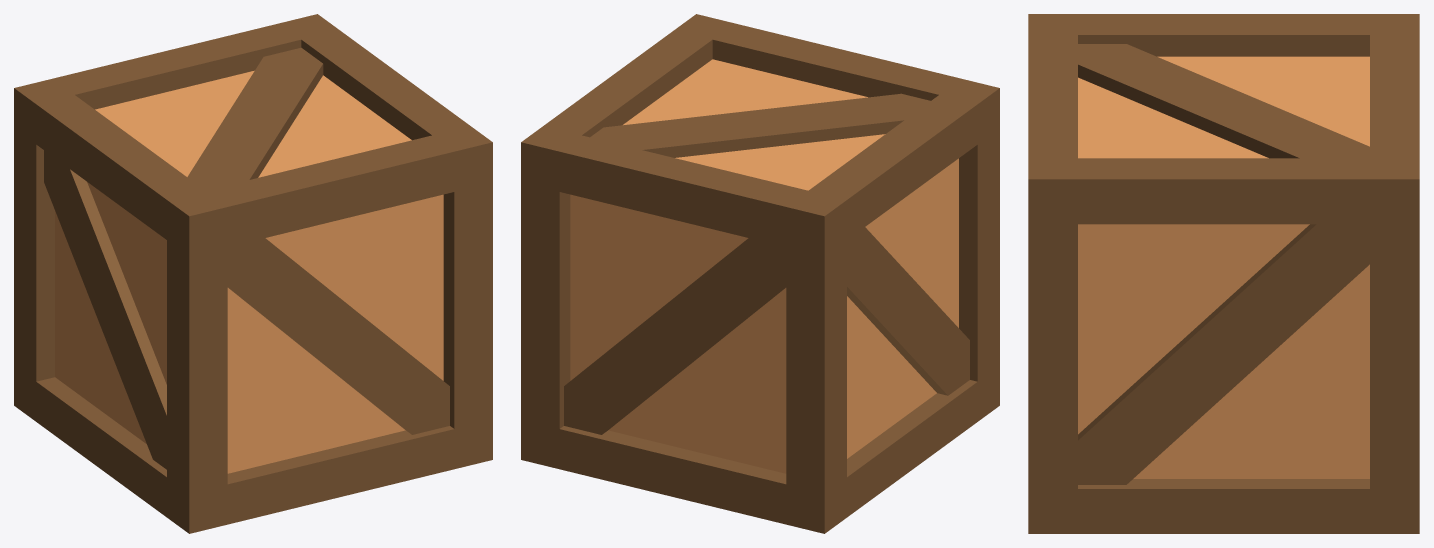
3 views of the same model, side by side, from view 1: azimuth 30°, elevation 25°; view 2: azimuth 150°, elevation 25°; view 3: azimuth 270°, elevation 25° (orthographic). The views are drawn at different scales.
Parts seen in each view (by area): view 1: Box; view 2: Box; view 3: Box.
Part boxes in pixels (bbox=[...]): Box: bbox=[14, 14, 492, 533]; Box: bbox=[521, 14, 999, 533]; Box: bbox=[1028, 14, 1419, 533].
Bounding box in the file's own units: 200 × 200 × 200.
